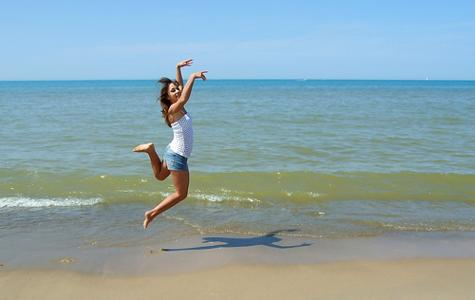person: (133, 61, 209, 231)
